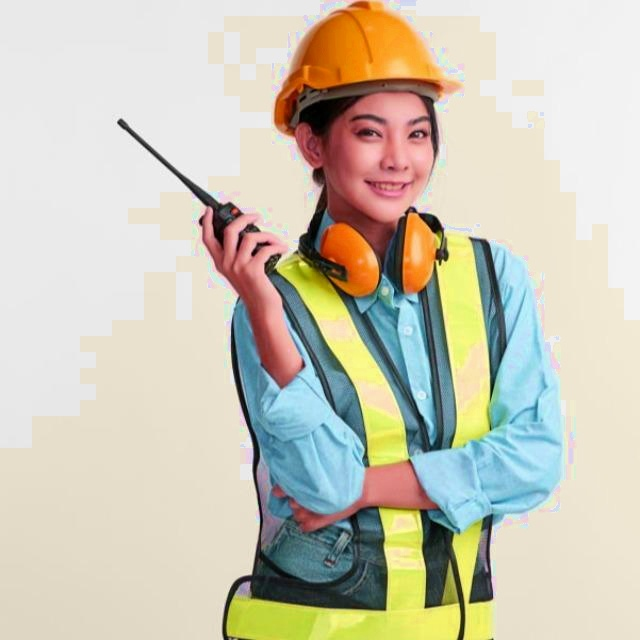Con_Casco: (273, 0, 463, 214)
Con_Chaleco: (228, 229, 503, 638)
